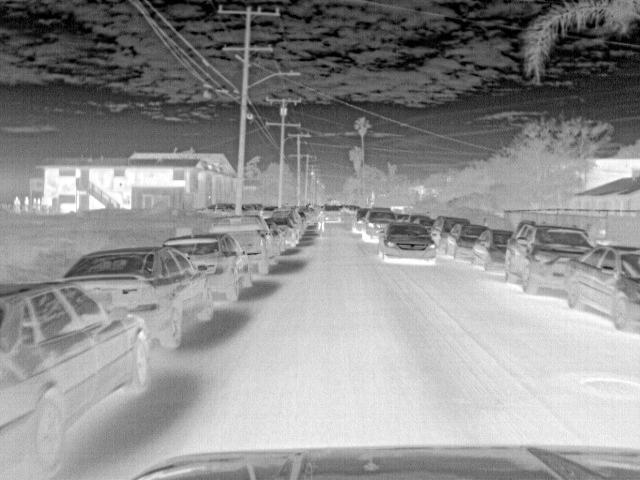car: (4, 280, 155, 478), (61, 246, 215, 347), (503, 224, 598, 297), (563, 246, 640, 334), (163, 236, 256, 308), (208, 214, 280, 274), (381, 223, 437, 267), (471, 228, 515, 272), (443, 222, 488, 262), (431, 215, 470, 251), (364, 209, 399, 241), (267, 218, 298, 248), (266, 221, 287, 253), (352, 207, 371, 234), (197, 204, 235, 216), (322, 202, 342, 222)
person: (315, 209, 328, 233), (13, 196, 22, 216), (22, 194, 31, 212)
